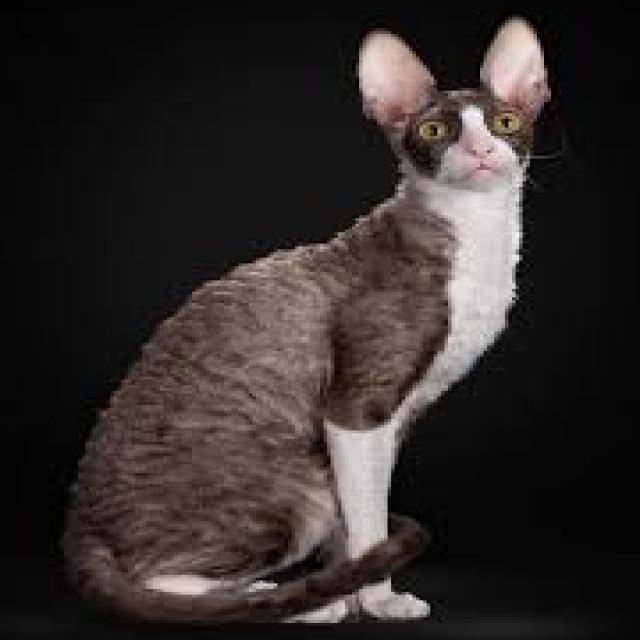Cornish Rex: (52, 11, 560, 633)
